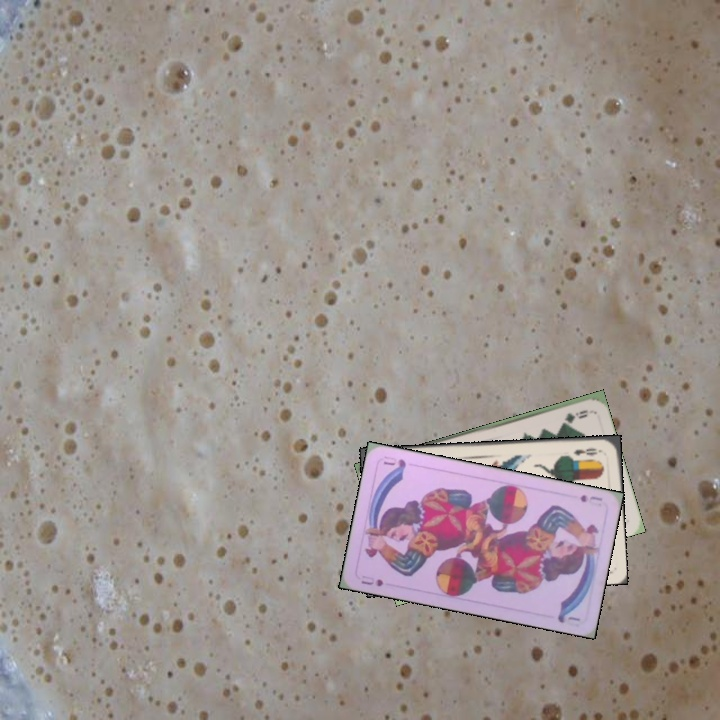EO: (570, 444, 604, 458)
G9: (560, 406, 591, 424)
SU: (357, 571, 386, 589), (576, 491, 605, 507)
